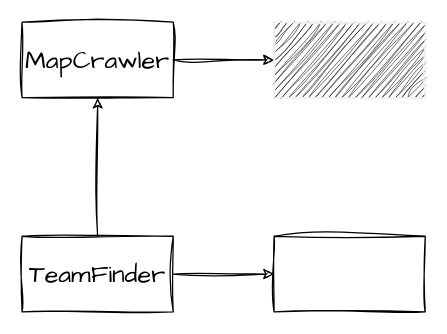
Image size: 447x334. Some labels were removed from this diagram. The shapes that lost their labels are listed below. From the top down, each one's centre as x and y in pixels, then its label:
At point (349, 59): "Place".
At point (349, 273): "Team".
